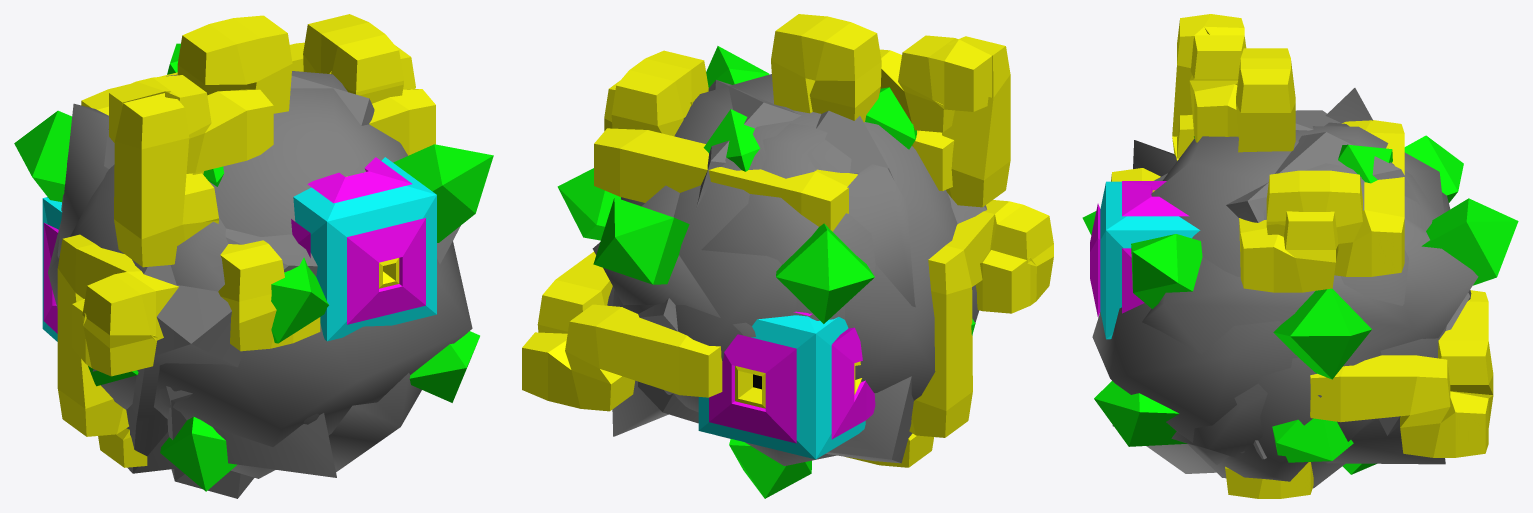
The model's file is Asteroids.fbx.
3 renders of one model, left to right at view 1: azimuth 30°, elevation 25°; view 2: azimuth 150°, elevation 25°; view 3: azimuth 270°, elevation 25°, orthographic. The views are drawn at different scales.
Parts seen in each view (by area): view 1: asteroid4Out, asteroid3Out, asteroid2Out, asteroid1Out, asteroid0Out; view 2: asteroid4Out, asteroid3Out, asteroid0Out, asteroid2Out, asteroid1Out; view 3: asteroid4Out, asteroid3Out, asteroid0Out, asteroid2Out, asteroid1Out.
Part boxes in pixels (x1,y1,x2,y2): asteroid4Out: (42, 14, 472, 478); asteroid3Out: (14, 43, 493, 491); asteroid2Out: (126, 76, 374, 477); asteroid1Out: (104, 129, 254, 498); asteroid0Out: (61, 74, 319, 424); asteroid4Out: (522, 14, 1053, 467); asteroid3Out: (557, 46, 975, 498); asteroid0Out: (701, 105, 875, 438); asteroid2Out: (607, 80, 986, 463); asteroid1Out: (816, 110, 893, 179); asteroid4Out: (1090, 14, 1493, 498); asteroid3Out: (1082, 88, 1518, 474); asteroid0Out: (1188, 126, 1444, 488); asteroid2Out: (1112, 132, 1470, 459); asteroid1Out: (1257, 110, 1341, 151).
Size of the model in its own units: 273 by 283 by 271.
